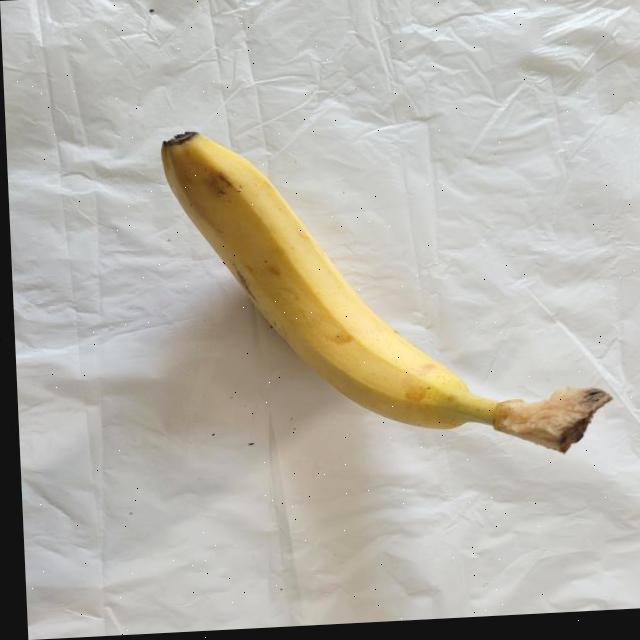banana: (149, 94, 620, 481)
